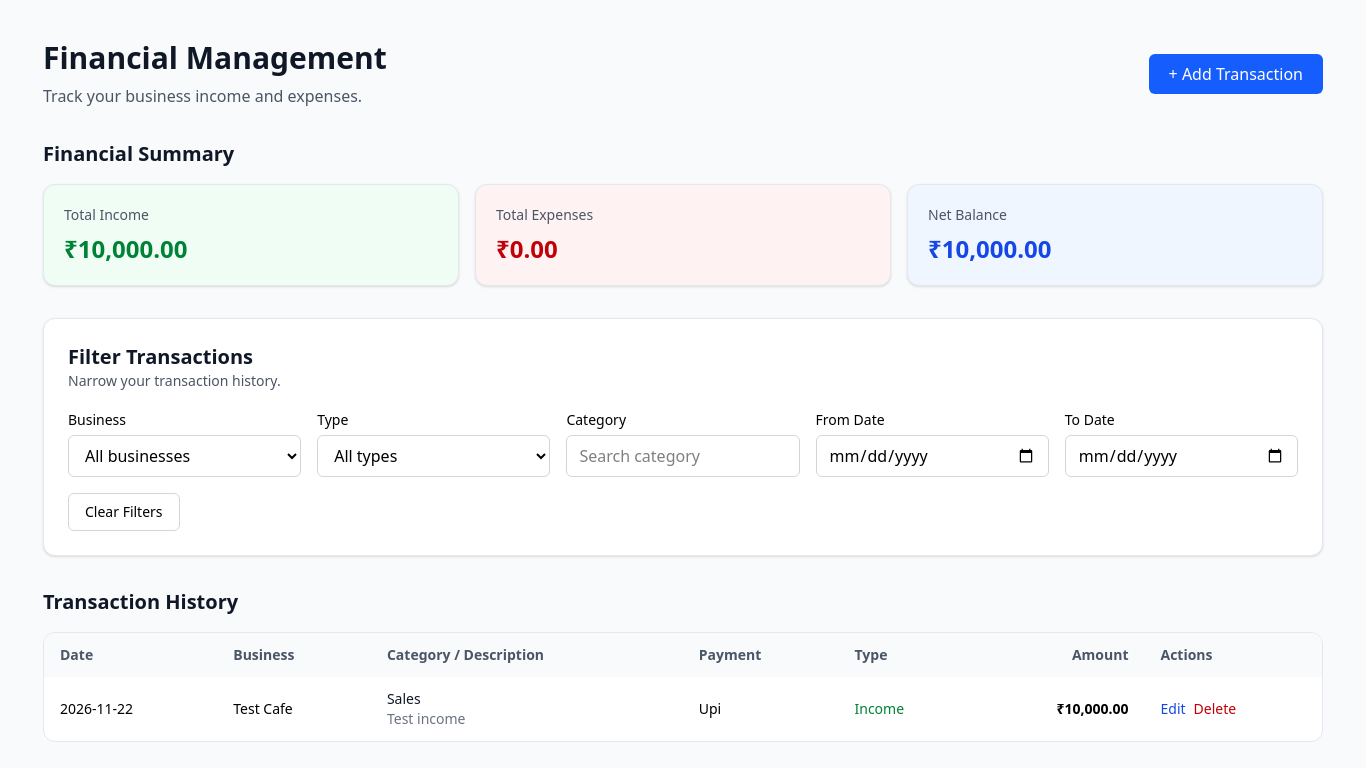
Test: TransactionsPage › clears all transaction filters
The image size is (1366, 768).
Select "Expense" in the dropdown labelled "Type" at (434, 456), box left=317, top=435, right=550, bottom=477
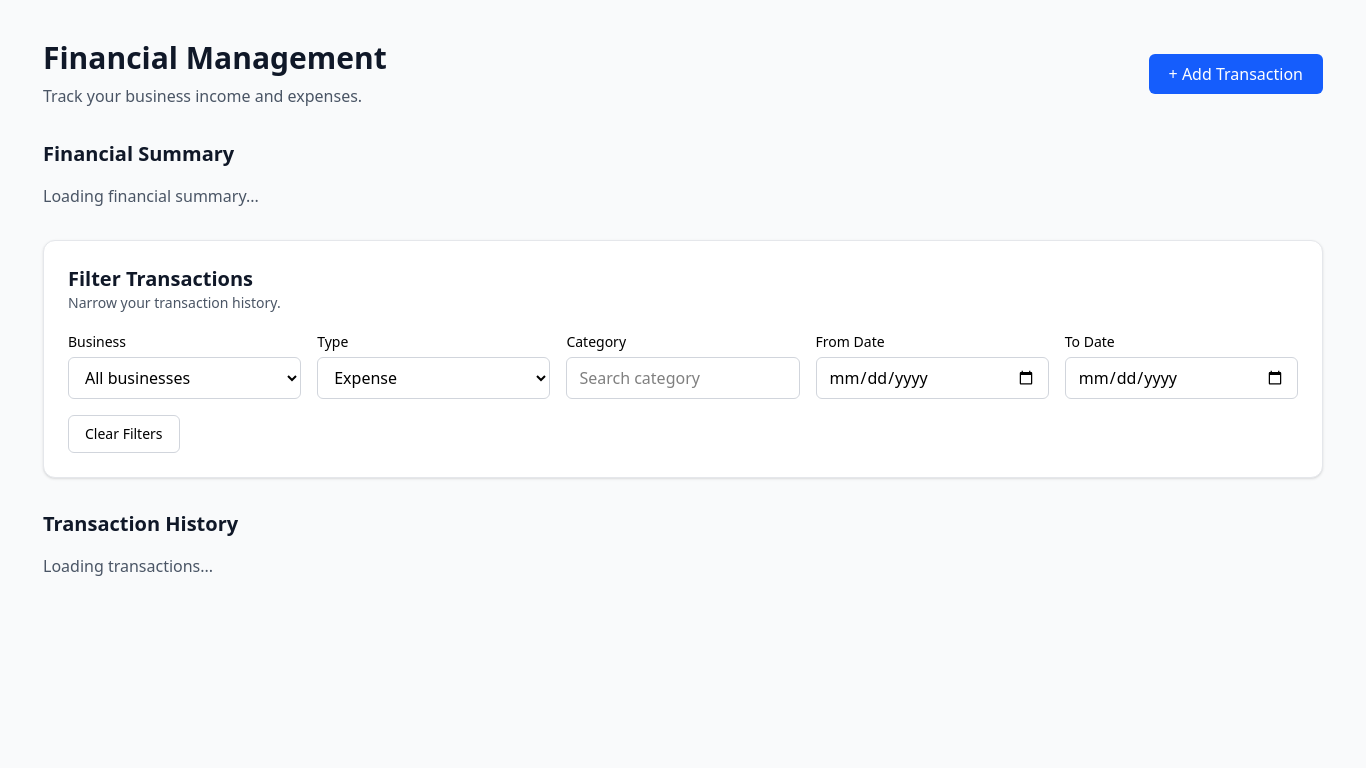
Type "Rent" into the field labelled "Category" at (683, 378), box left=566, top=357, right=800, bottom=399
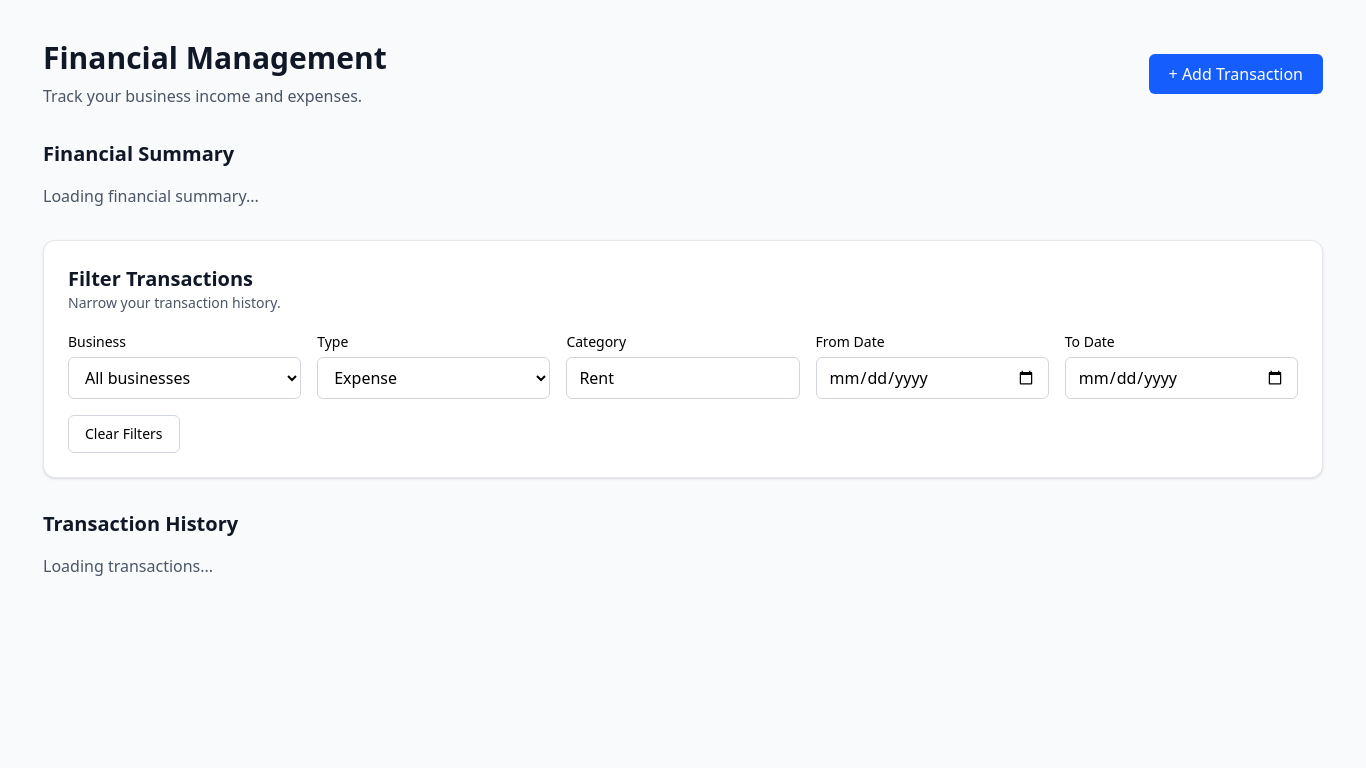
Click the button "Clear Filters" at (124, 434), box left=68, top=415, right=180, bottom=453
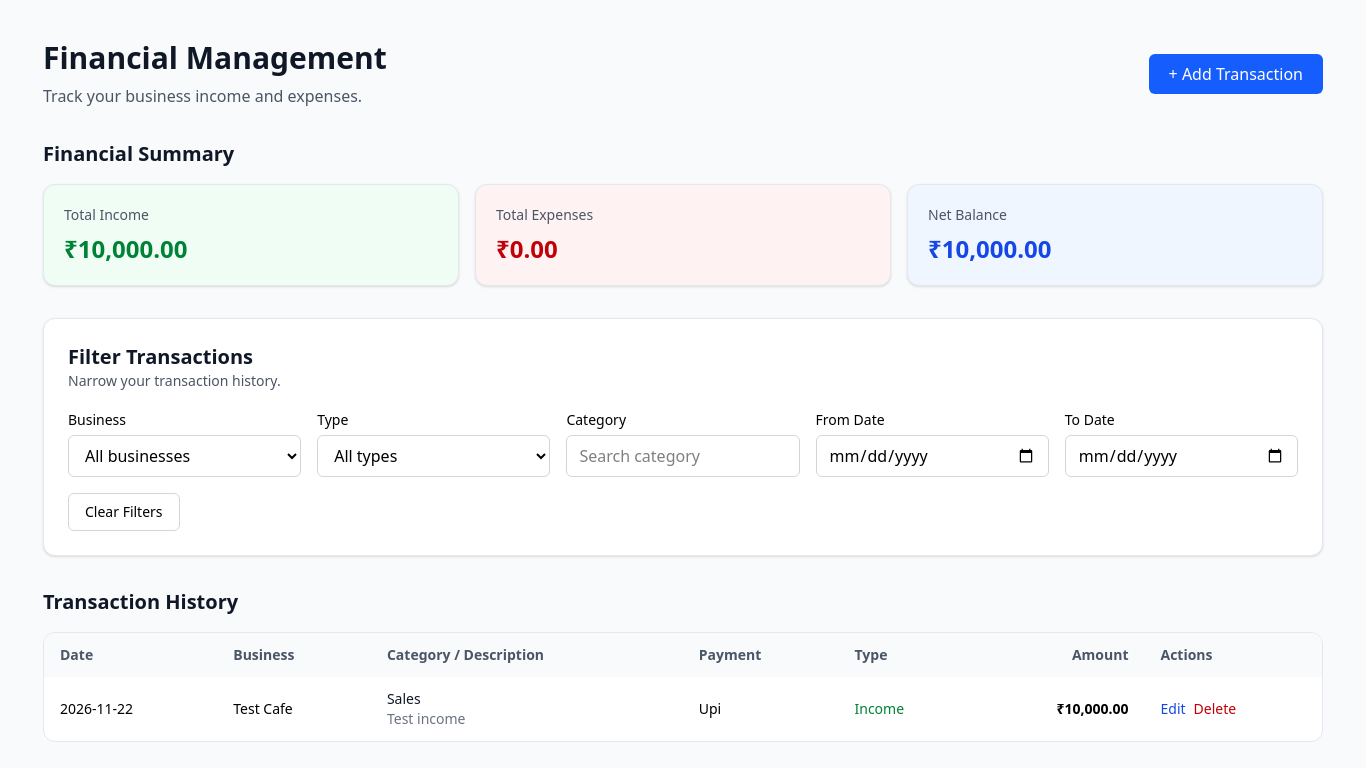
Expected: the field labelled "Category" is empty, left=566, top=435, right=800, bottom=477
